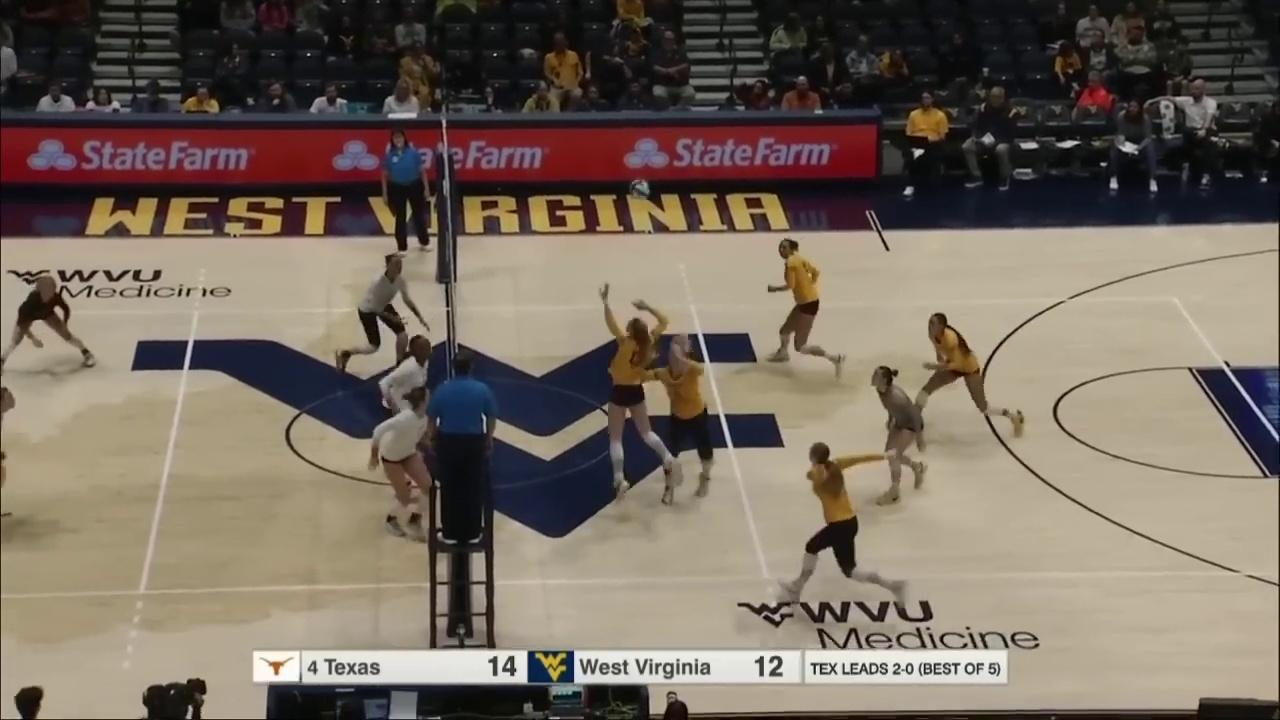player: (789, 440, 914, 617), (905, 310, 1032, 441), (600, 295, 674, 510), (643, 331, 714, 497), (334, 254, 426, 380), (0, 263, 98, 374), (377, 333, 443, 491), (754, 245, 835, 371), (370, 385, 432, 541), (870, 364, 928, 506)
refree: (426, 351, 498, 551), (378, 128, 433, 261)
